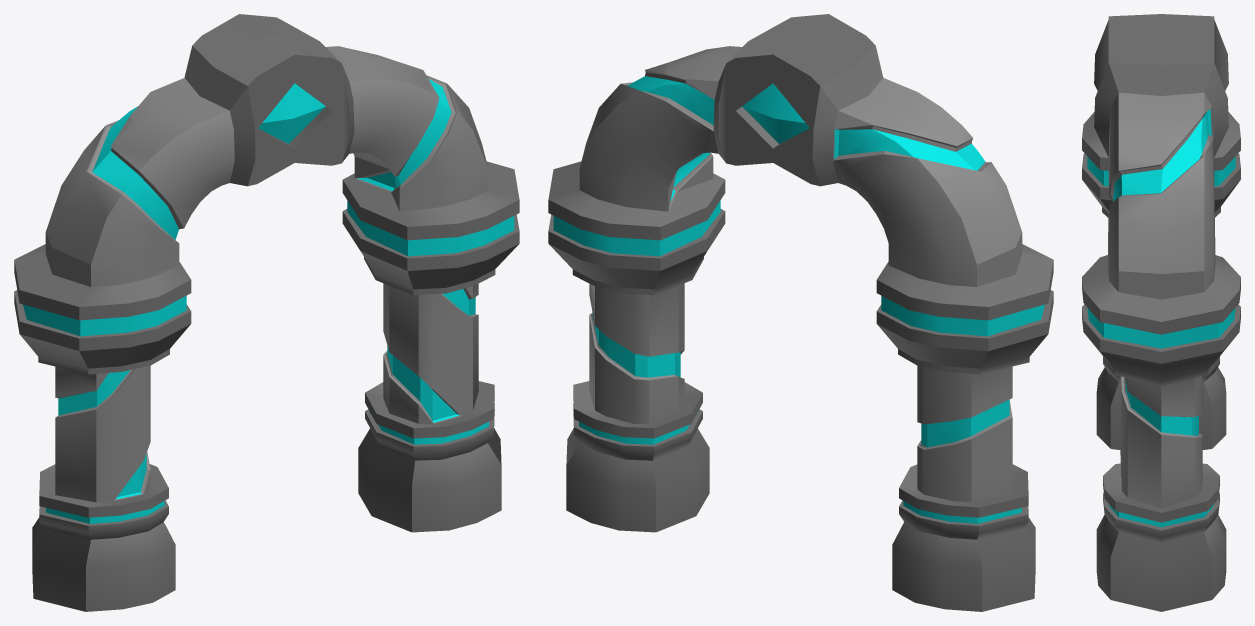
File: arco de piedra  variacion 2.fbx
3 views of the same model, side by side, from view 1: azimuth 30°, elevation 25°; view 2: azimuth 150°, elevation 25°; view 3: azimuth 270°, elevation 25° (orthographic). The views are drawn at different scales.
Visible parts, largest first — view 1: pCube1; view 2: pCube1; view 3: pCube1.
Boxes of the visible parts, left/top/right/bottom form: pCube1: left=14, top=14, right=519, bottom=611; pCube1: left=548, top=14, right=1053, bottom=611; pCube1: left=1082, top=14, right=1240, bottom=611.
Size of the model in its own units: 5.52 by 5.4 by 1.61.
